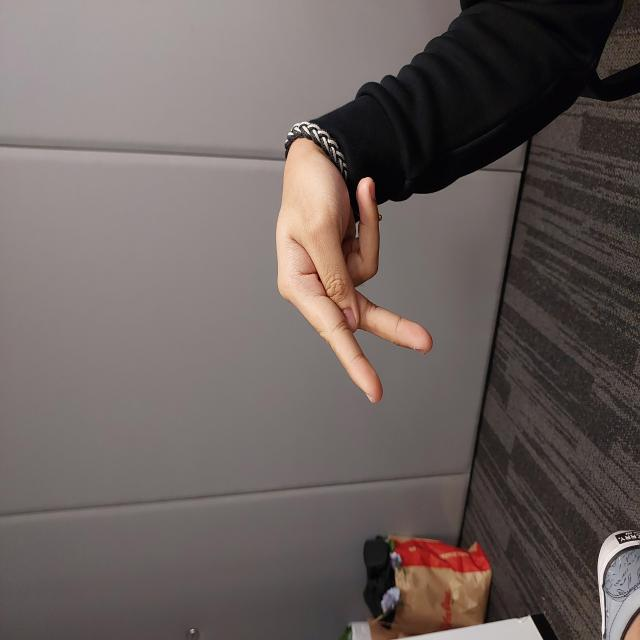P: (236, 276, 507, 434)
